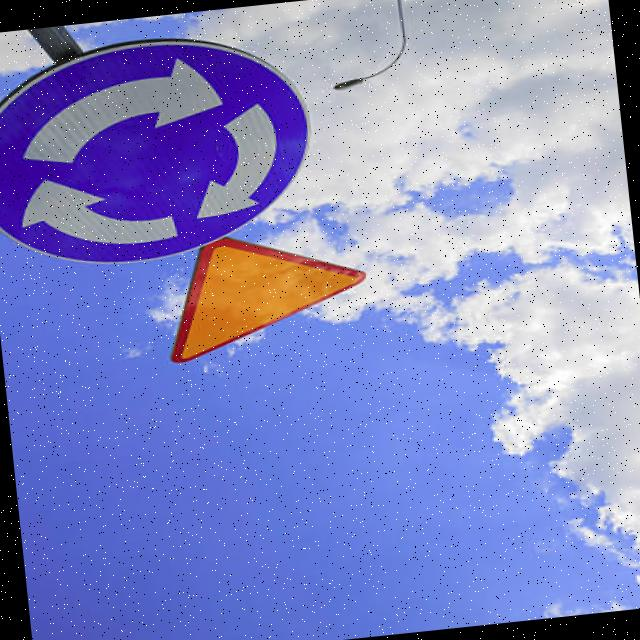round_about: (0, 16, 331, 284)
